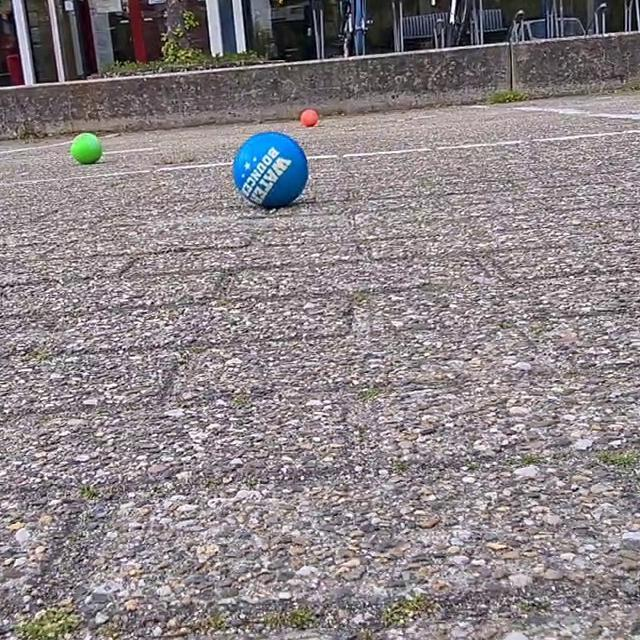ball: (69, 129, 105, 170), (298, 107, 318, 128)
